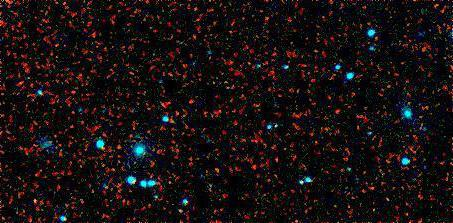star: (21, 188, 51, 218)
